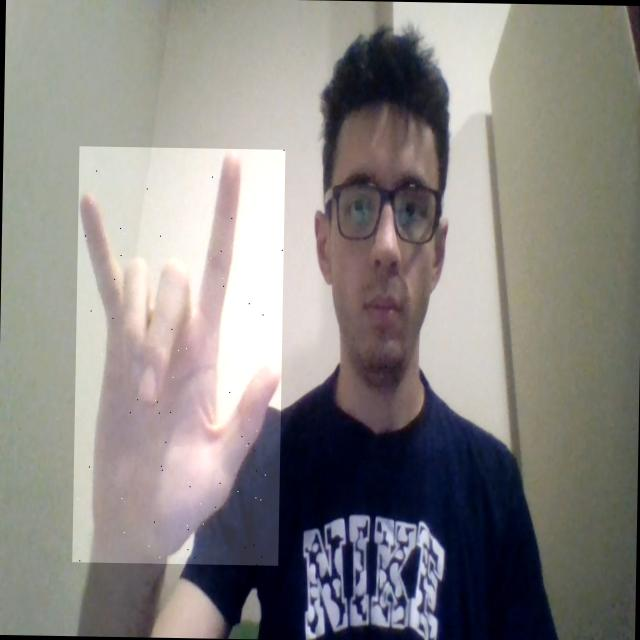iloveyou: (72, 145, 285, 566)
